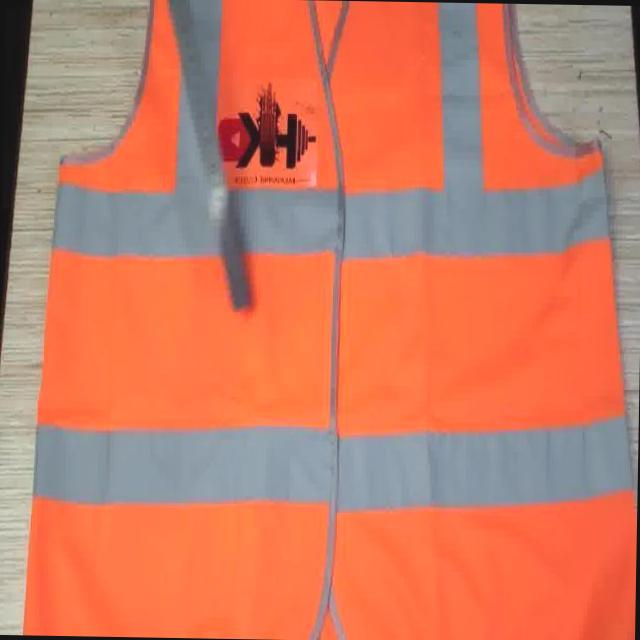vest: (22, 0, 640, 640)
